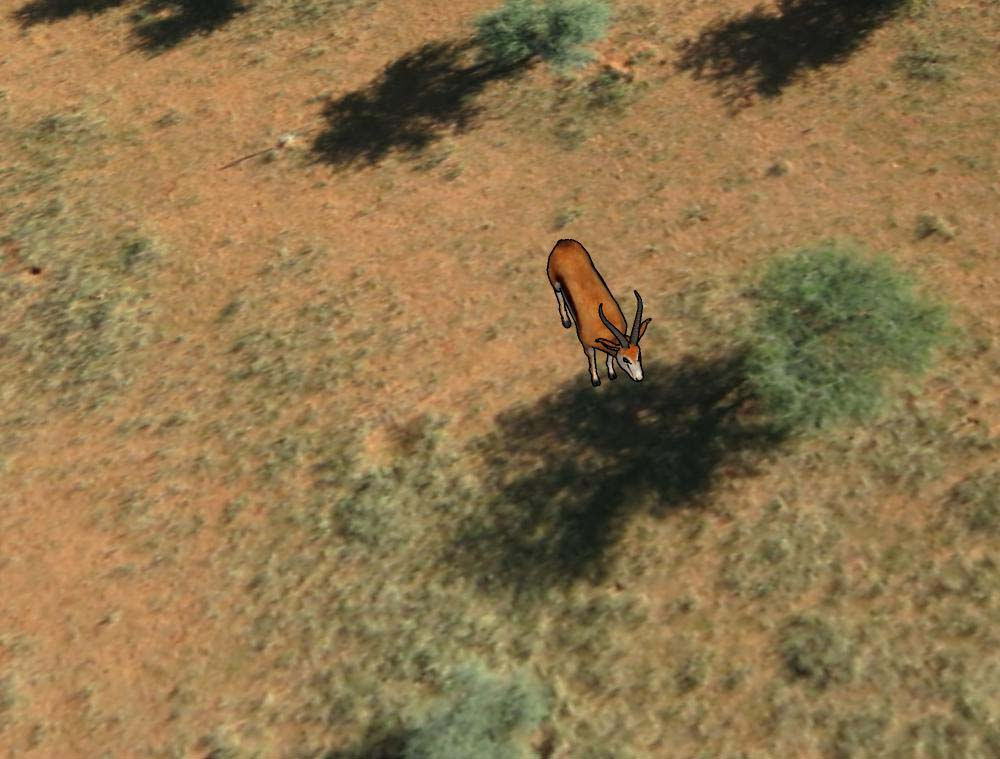springbok: (544, 230, 655, 394)
